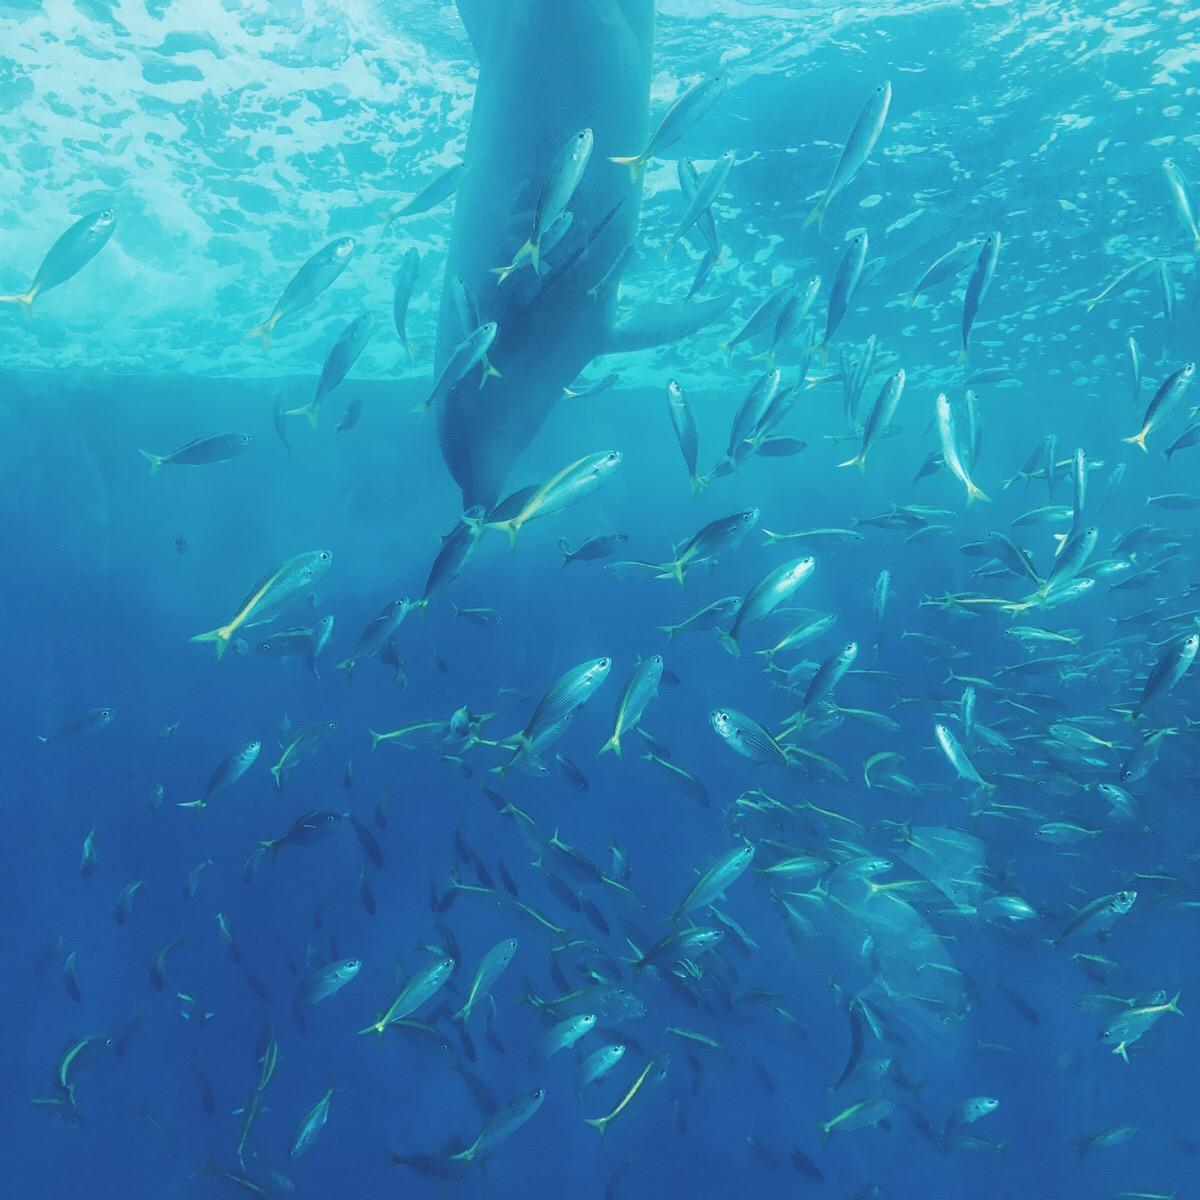fish: (391, 1, 723, 513)
